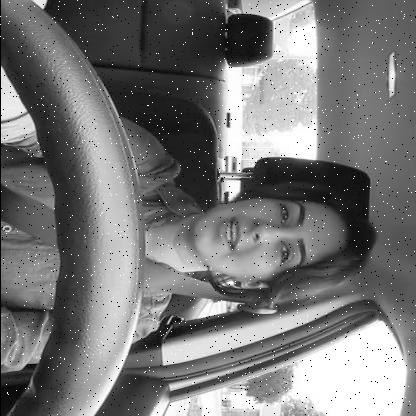seatbelt: (0, 150, 395, 322)
